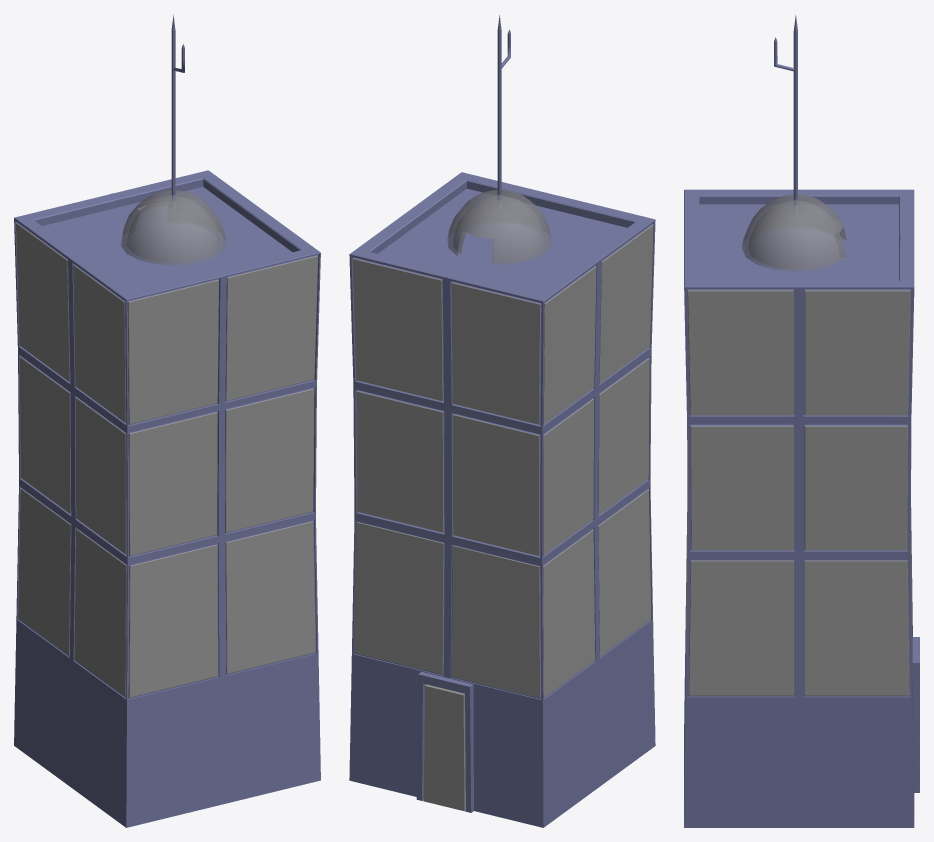
File: Building_01.fbx
3 renders of one model, left to right at view 1: azimuth 30°, elevation 25°; view 2: azimuth 150°, elevation 25°; view 3: azimuth 270°, elevation 25°, orthographic. The views are drawn at different scales.
Visible parts, largest first — view 1: Building_01; view 2: Building_01; view 3: Building_01.
Part boxes in pixels (left/top/right/bottom): Building_01: left=14, top=14, right=320, bottom=827; Building_01: left=349, top=15, right=655, bottom=827; Building_01: left=684, top=15, right=919, bottom=827.
Bounding box in the file's own units: 485 × 1783 × 497.
